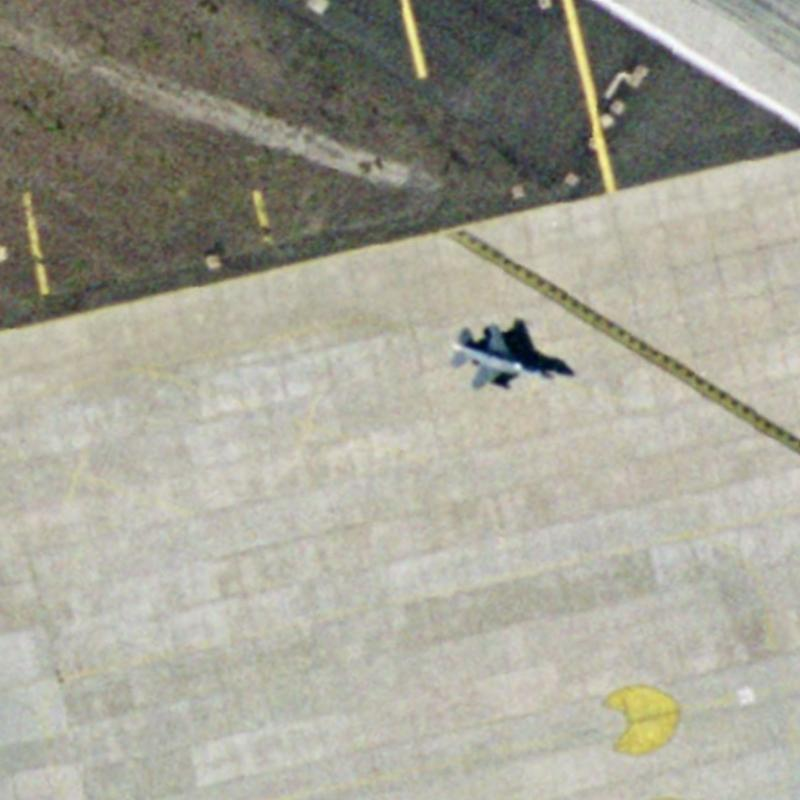A5: (442, 312, 558, 396)
